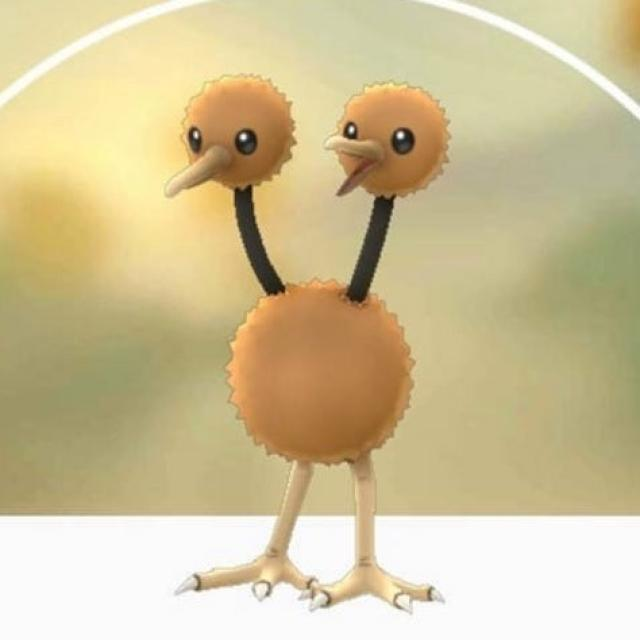Doduo: (161, 70, 473, 618)
